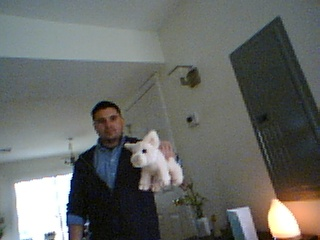piggy: (123, 129, 185, 195)
